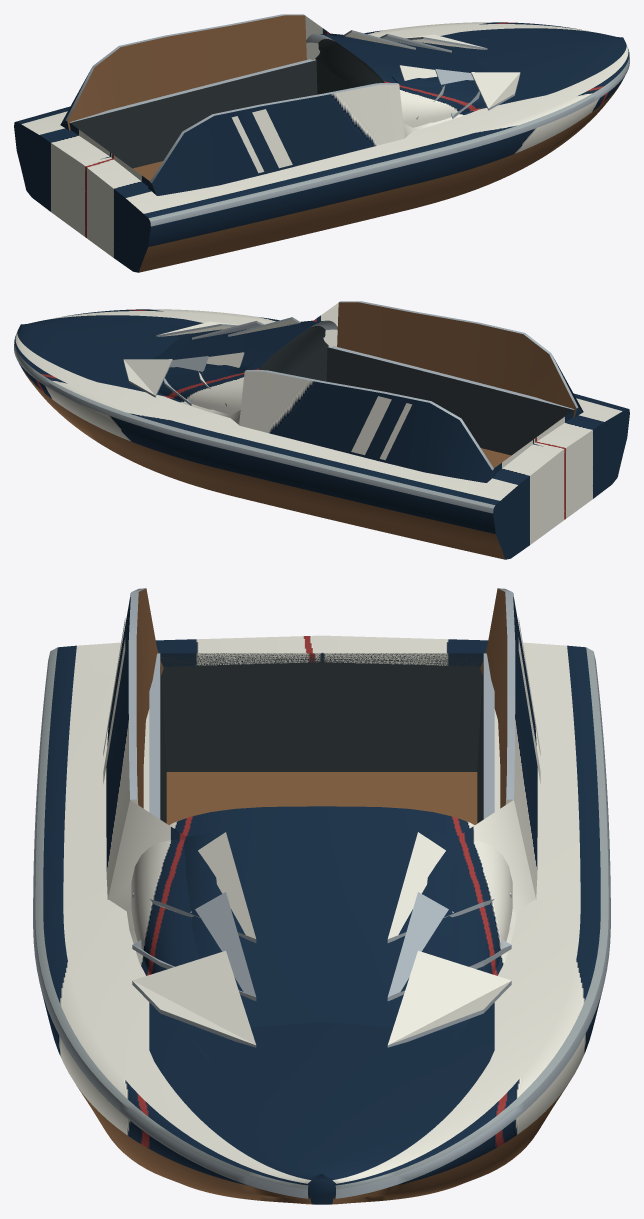
File: Hull_18_SR_濃藍・逆舷.glb
The picture shows the model from 3 angles, top to bottom: view 1: azimuth 30°, elevation 25°; view 2: azimuth 150°, elevation 25°; view 3: azimuth 270°, elevation 25°; orthographic projection. The views are drawn at different scales.
Parts seen in each view (by area): view 1: Hull_18_SR; view 2: Hull_18_SR; view 3: Hull_18_SR.
Part boxes in pixels (<box>): Hull_18_SR: <box>14,14,629,272</box>; Hull_18_SR: <box>14,301,629,559</box>; Hull_18_SR: <box>33,588,610,1204</box>.
Bounding box in the file's own units: 2.9 × 0.6856 × 1.34.
Materials: 4 (4 with a texture image).
